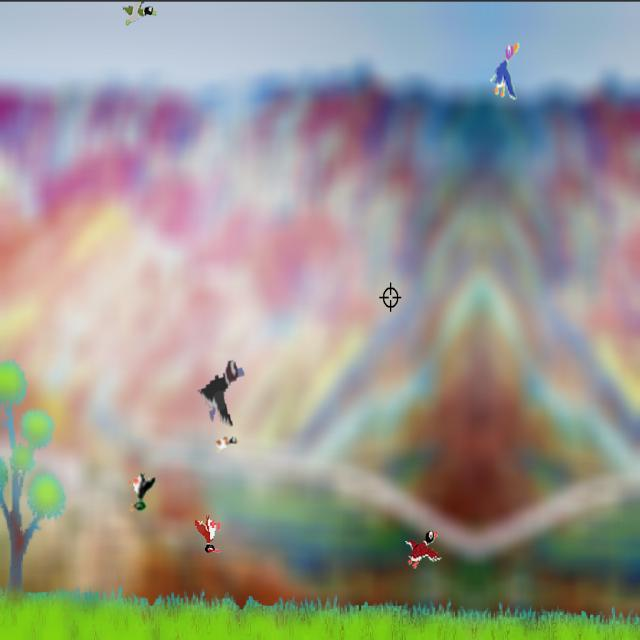duck: (197, 352, 246, 432), (488, 35, 523, 103), (402, 528, 442, 574), (120, 0, 159, 32), (214, 435, 242, 458)
falling_duck: (193, 506, 223, 558), (125, 469, 157, 512)
